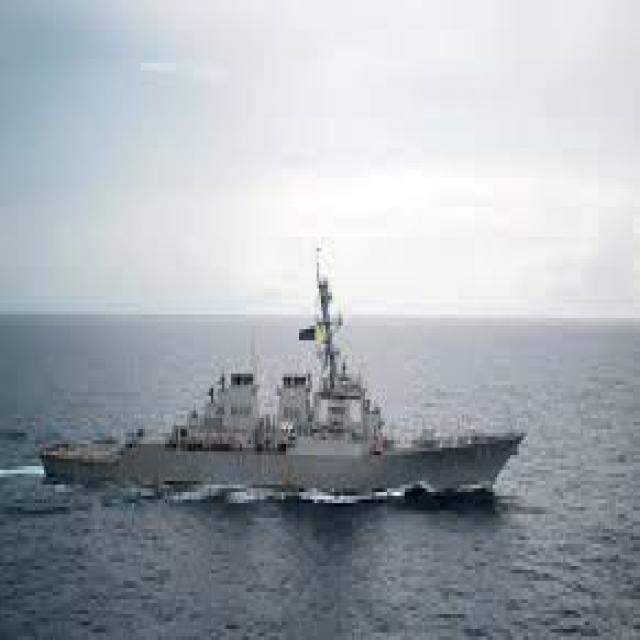navalvessels: (39, 274, 534, 506)
